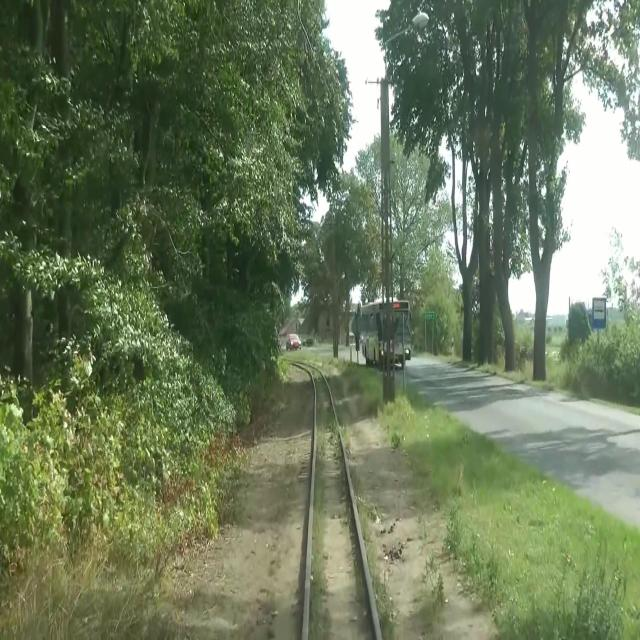rail-track: (308, 370, 376, 639)
